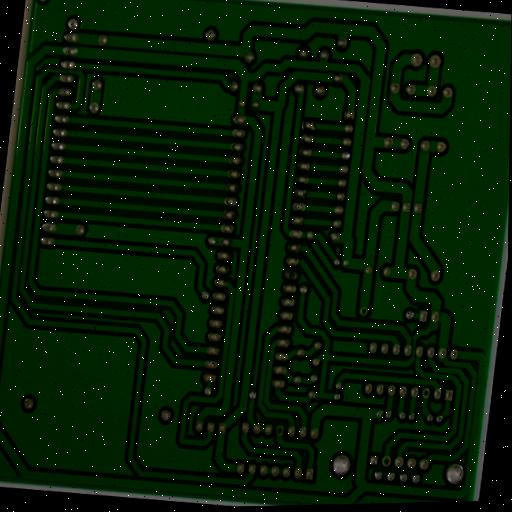missing_hole: (379, 452, 394, 469), (273, 421, 286, 439), (284, 267, 298, 282), (419, 385, 432, 401), (357, 304, 371, 318)
